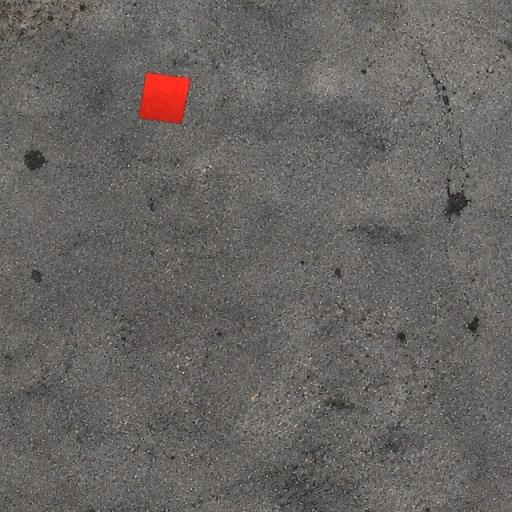RED_SQUARE: (138, 72, 191, 125)
